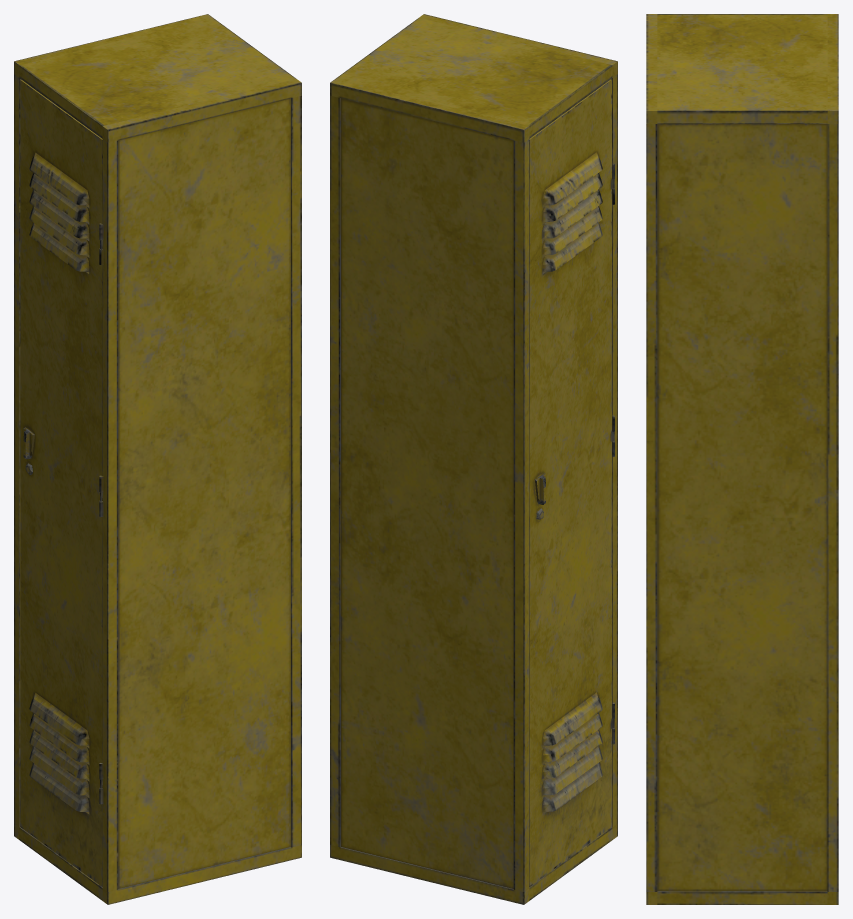
The model's file is locker_main.fbx.
3 renders of one model, left to right at view 1: azimuth 30°, elevation 25°; view 2: azimuth 150°, elevation 25°; view 3: azimuth 270°, elevation 25°, orthographic. The views are drawn at different scales.
Parts seen in each view (by area): view 1: locker_main; view 2: locker_main; view 3: locker_main.
Part boxes in pixels (x1,y1,x2,y2): locker_main: [14, 14, 301, 904]; locker_main: [330, 14, 617, 904]; locker_main: [646, 14, 838, 904].
Size of the model in its own units: 64.24 by 235 by 51.75.
